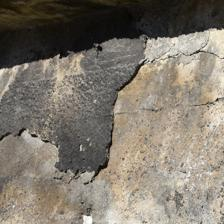Crack: (0, 45, 131, 199), (83, 31, 156, 76), (22, 36, 133, 64)
